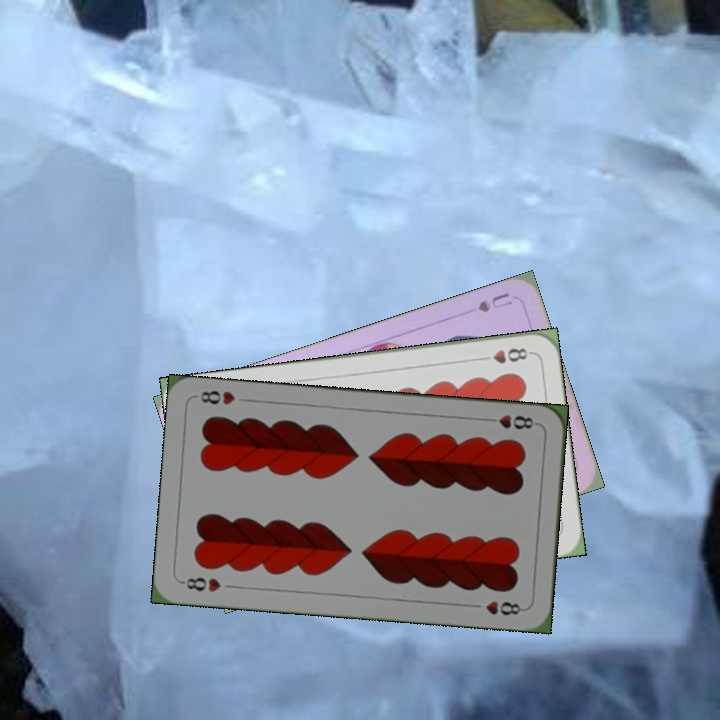H8: (475, 344, 534, 366), (481, 411, 540, 432), (177, 573, 224, 595)
SU: (474, 288, 515, 315)
